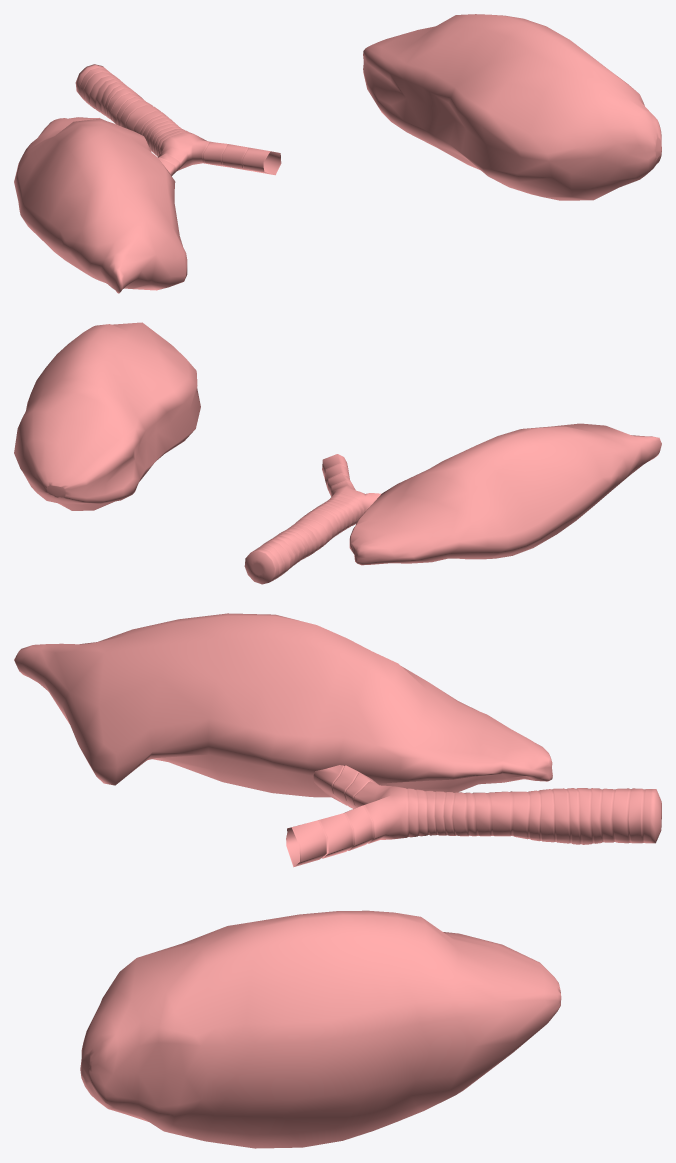
The model's file is lung.fbx.
3 renders of one model, top to bottom at view 1: azimuth 30°, elevation 25°; view 2: azimuth 150°, elevation 25°; view 3: azimuth 270°, elevation 25°, orthographic. The views are drawn at different scales.
Visible parts, largest first — view 1: left_lung, right_lung, windpipe; view 2: right_lung, left_lung, windpipe; view 3: left_lung, right_lung, windpipe.
Boxes of the visible parts, x1,y1,x2,y2 form: left_lung: [363, 14, 661, 200]; right_lung: [14, 117, 187, 293]; windpipe: [75, 64, 281, 175]; right_lung: [349, 423, 661, 565]; left_lung: [14, 322, 200, 510]; windpipe: [244, 454, 381, 584]; left_lung: [80, 910, 561, 1148]; right_lung: [14, 613, 552, 797]; windpipe: [286, 765, 661, 867].
Size of the model in its own units: 675 by 181 by 470.
